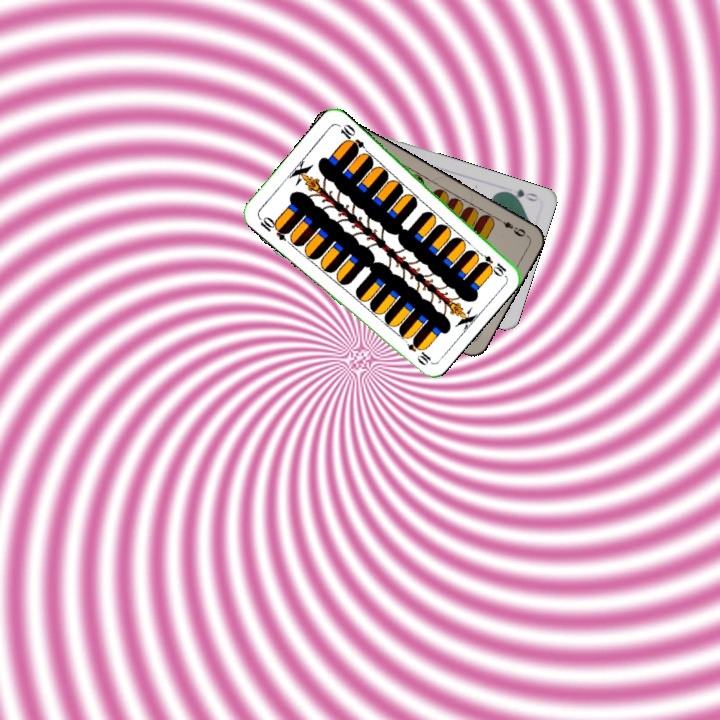E10: (254, 212, 291, 243), (473, 247, 509, 278)
E9: (493, 214, 530, 240)
GO: (501, 185, 541, 204)
